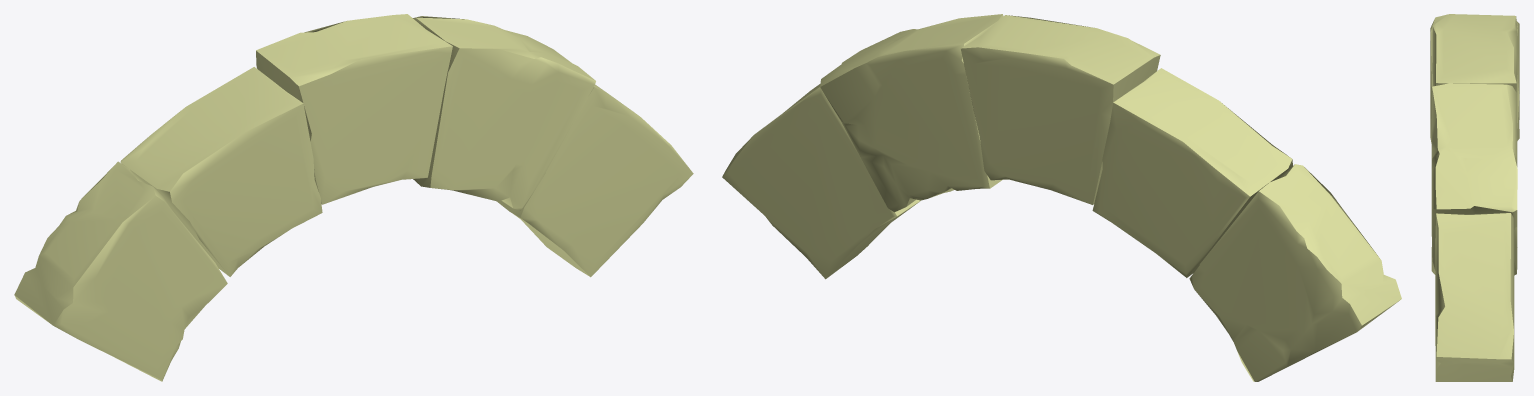
Rendered from stone_element_20_lintel_04.fbx.
The picture shows the model from 3 angles, left to right: view 1: azimuth 30°, elevation 25°; view 2: azimuth 150°, elevation 25°; view 3: azimuth 270°, elevation 25°; orthographic projection. The views are drawn at different scales.
Parts seen in each view (by area): view 1: stone_element_20_lintel_04_LOD0; view 2: stone_element_20_lintel_04_LOD0; view 3: stone_element_20_lintel_04_LOD0.
Boxes of the visible parts, left/top/right/bottom form: stone_element_20_lintel_04_LOD0: left=14, top=14, right=693, bottom=381; stone_element_20_lintel_04_LOD0: left=722, top=14, right=1401, bottom=381; stone_element_20_lintel_04_LOD0: left=1430, top=14, right=1519, bottom=381.
Size of what is drawn, in the model's own units: 256 by 106 by 34.38.
